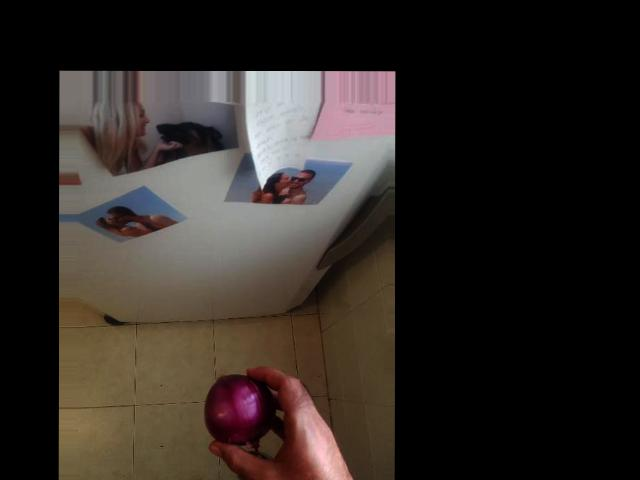onion: (201, 371, 284, 456)
